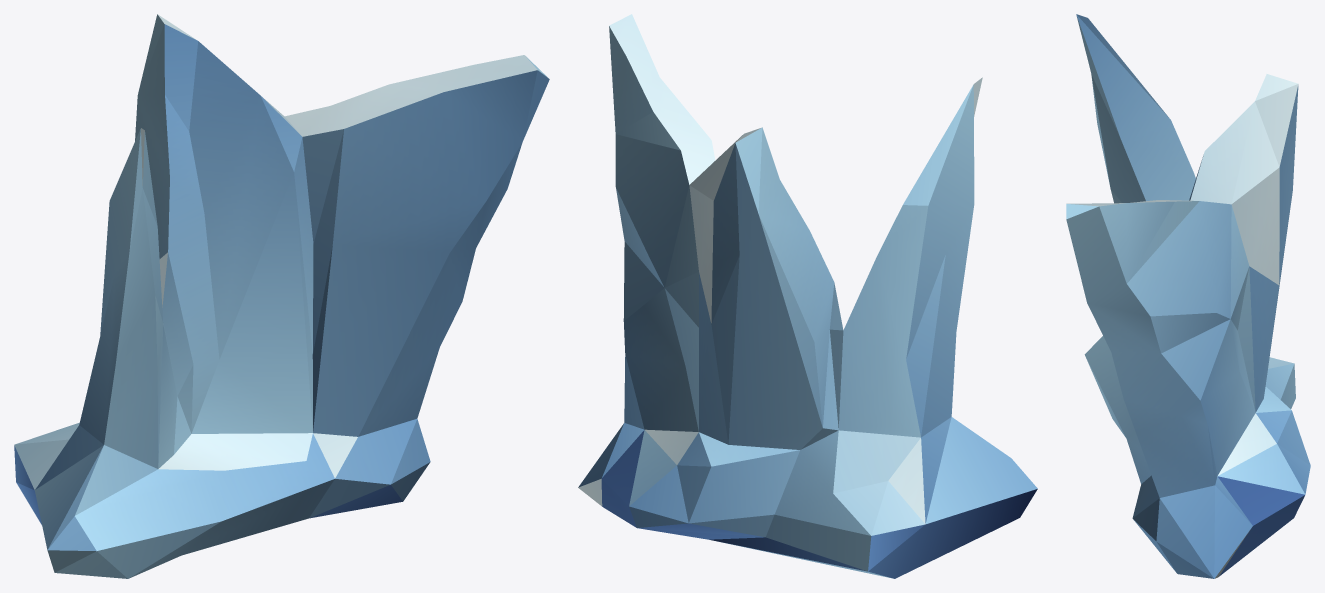
Rendered from IceSpikes-1.glb.
3 renders of one model, left to right at view 1: azimuth 30°, elevation 25°; view 2: azimuth 150°, elevation 25°; view 3: azimuth 270°, elevation 25°, orthographic. The views are drawn at different scales.
Visible parts, largest first — view 1: SnowSpikes-1-col; view 2: SnowSpikes-1-col; view 3: SnowSpikes-1-col.
Part boxes in pixels (left/top/right/bottom): SnowSpikes-1-col: left=14, top=14, right=549, bottom=578; SnowSpikes-1-col: left=578, top=14, right=1037, bottom=578; SnowSpikes-1-col: left=1066, top=14, right=1310, bottom=578.
Size of the model in its own units: 3.19 by 3.14 by 1.63.
Materials: 1 (1 with a texture image).
